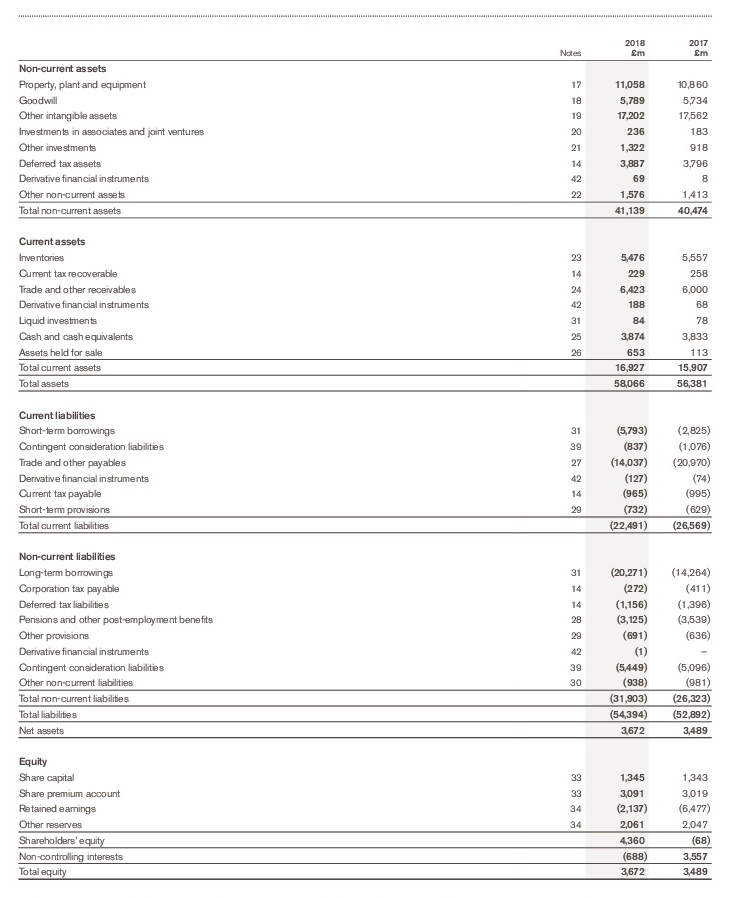table: (0, 0, 730, 897)
